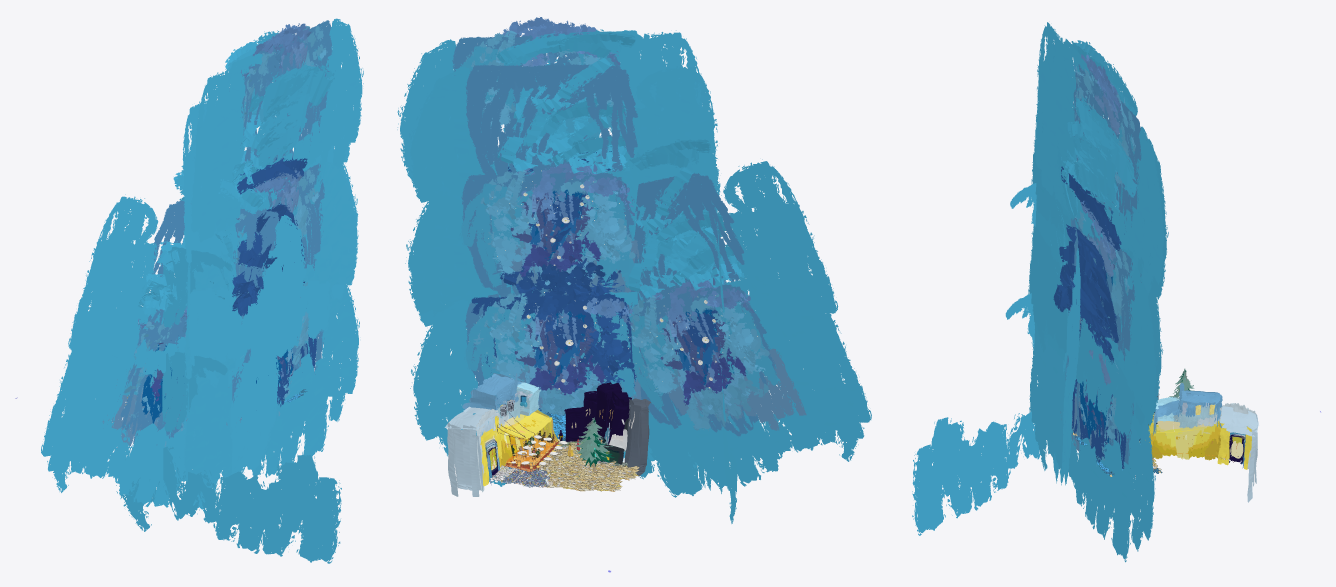
Rendered from van_gogh.glb.
The picture shows the model from 3 angles, left to right: view 1: azimuth 30°, elevation 25°; view 2: azimuth 150°, elevation 25°; view 3: azimuth 270°, elevation 25°; orthographic projection. The views are drawn at different scales.
Visible parts, largest first — view 1: Object_22, Object_26; view 2: Object_22, Object_26, Object_8, Object_197, Object_199, Object_12, Object_14, Object_210, Object_6; view 3: Object_22, Object_8, Object_26, Object_14.
Boxes of the visible parts, x1,y1,x2,y2 form: Object_22: (41, 18, 363, 563); Object_26: (124, 23, 327, 446); Object_22: (397, 29, 871, 523); Object_26: (465, 17, 769, 430); Object_8: (444, 382, 558, 496); Object_197: (564, 382, 631, 458); Object_199: (565, 398, 650, 476); Object_12: (483, 387, 558, 468); Object_14: (462, 373, 523, 414); Object_210: (575, 417, 613, 464); Object_6: (490, 440, 627, 487); Object_22: (912, 22, 1209, 562); Object_8: (1148, 396, 1258, 502); Object_26: (1070, 54, 1135, 466); Object_14: (1152, 383, 1222, 435).
Bounding box in the file's own units: 5.74 × 6.66 × 4.96.
Materials: 12 (10 with a texture image).
